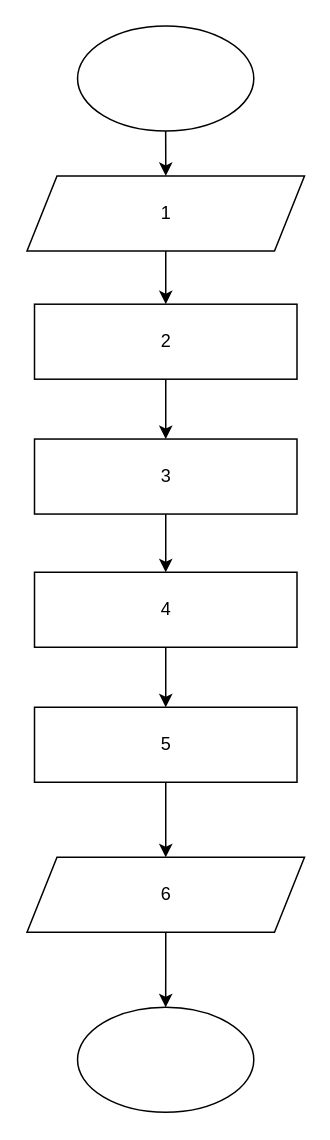
Image size: 330x1140. Some labels were removed from this diagram. The centre of each missing label's shape, as x and y in pixels:
END: pixel 165 1059
START: pixel 165 77
